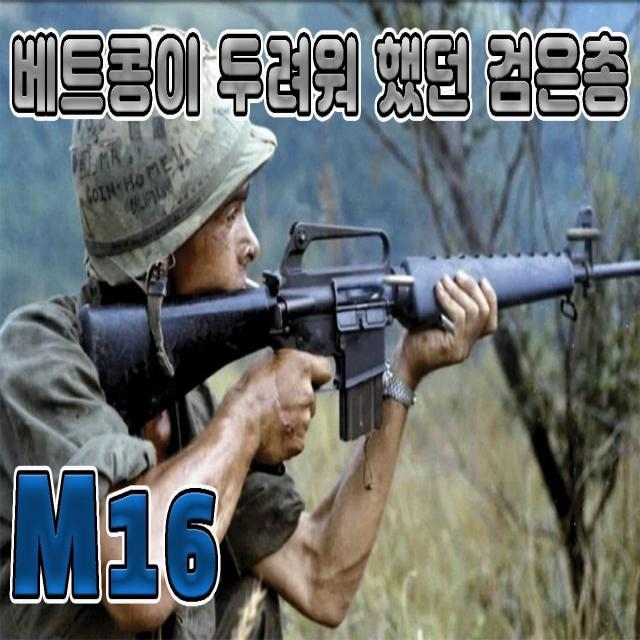m16: (72, 174, 638, 450)
